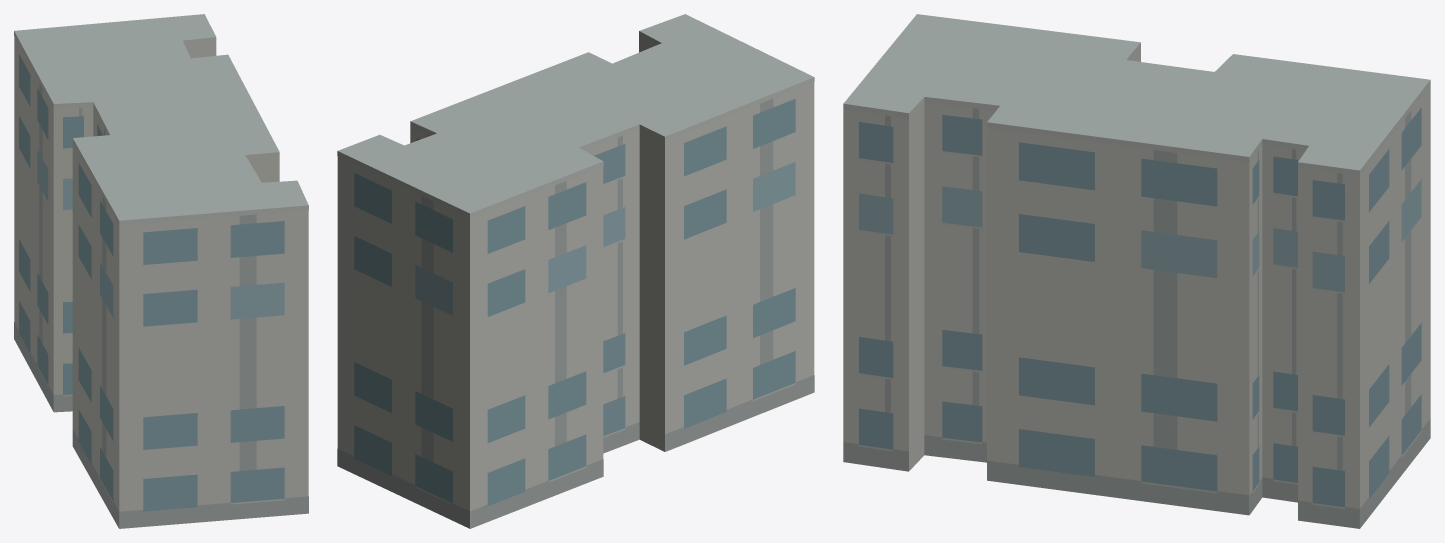
The model's file is survey-upis-32910939.glb.
3 renders of one model, left to right at view 1: azimuth 30°, elevation 25°; view 2: azimuth 150°, elevation 25°; view 3: azimuth 270°, elevation 25°, orthographic. The views are drawn at different scales.
Parts seen in each view (by area): view 1: survey-upis-32910939.tmp; view 2: survey-upis-32910939.tmp; view 3: survey-upis-32910939.tmp.
Part boxes in pixels (bbox=[...]): survey-upis-32910939.tmp: bbox=[14, 14, 308, 528]; survey-upis-32910939.tmp: bbox=[337, 14, 814, 528]; survey-upis-32910939.tmp: bbox=[843, 14, 1430, 528].
Bounding box in the file's own units: 14.43 × 15.4 × 22.88.
